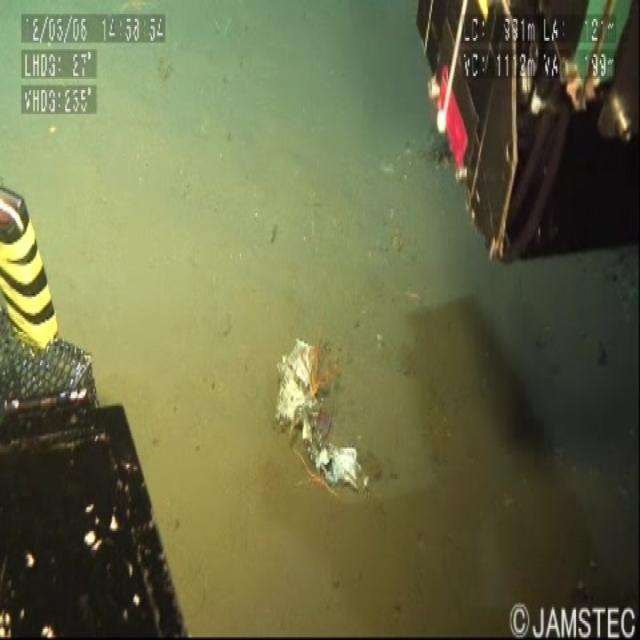Litter: (259, 337, 378, 530)
